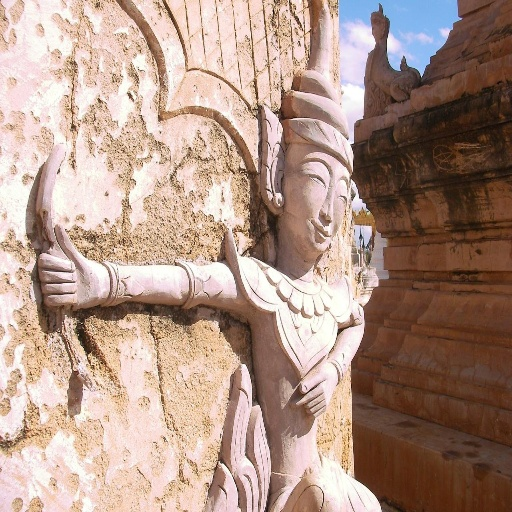hand: (35, 219, 101, 312), (290, 370, 337, 435)
